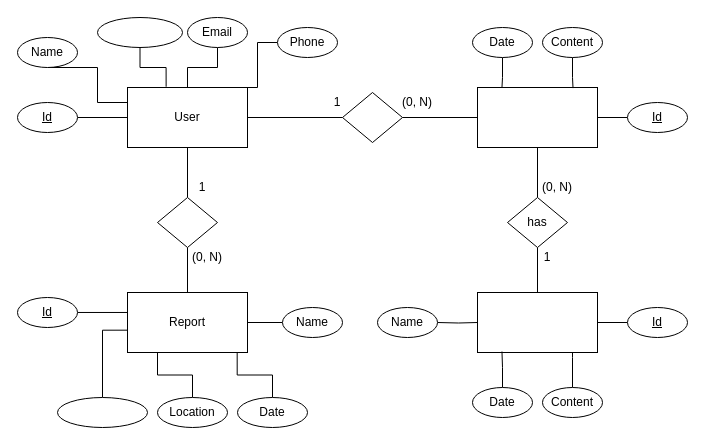
Image size: 705x445. Some labels were removed from this diagram. Here are the shapes that lost their labels. From the top down, the centre of each, then its label:
At (139,32): "Password".
At (372,117): "post".
At (537,117): "Comment".
At (187,222): "send".
At (537,322): "Article".
At (102,412): "Description".
